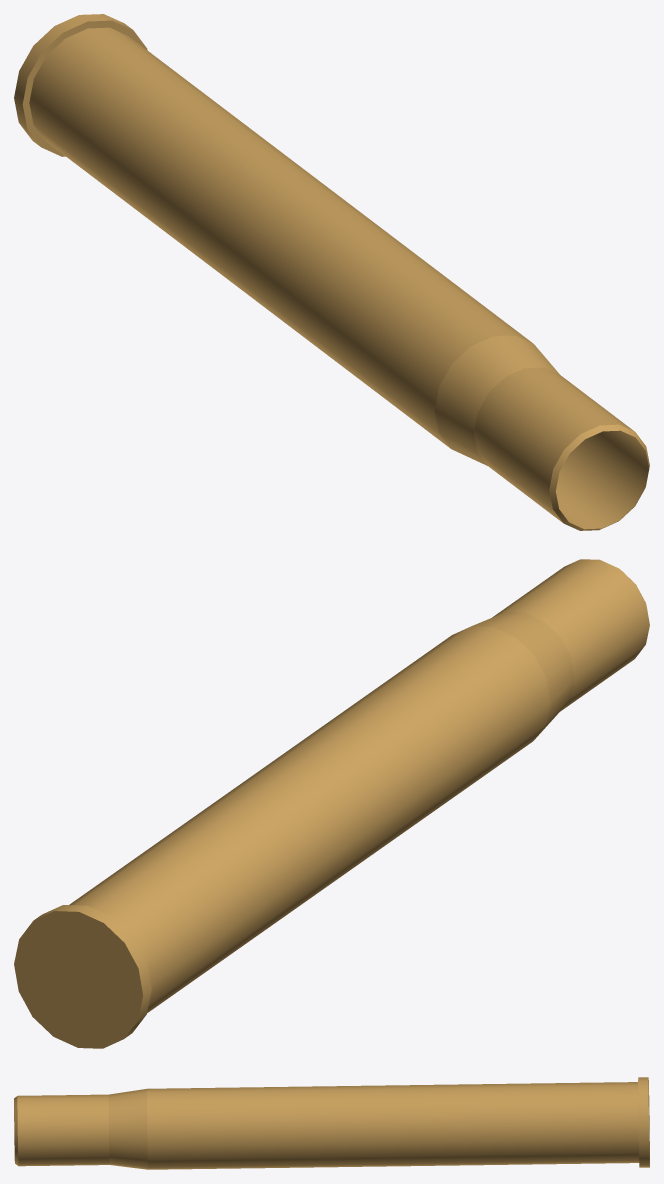
File: SM_Sniper-Shell.fbx
The picture shows the model from 3 angles, top to bottom: view 1: azimuth 30°, elevation 25°; view 2: azimuth 150°, elevation 25°; view 3: azimuth 270°, elevation 25°; orthographic projection. The views are drawn at different scales.
Visible parts, largest first — view 1: pShell; view 2: pShell; view 3: pShell.
Part boxes in pixels (box(x1,y1,x2,y2)): pShell: box(14, 14, 649, 530); pShell: box(14, 559, 649, 1048); pShell: box(14, 1077, 649, 1169).
Bounding box in the file's own units: 1.85 × 1.91 × 13.02.
